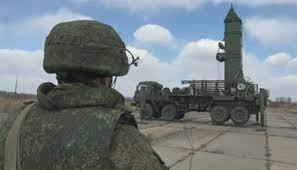truck: (132, 78, 261, 133)
